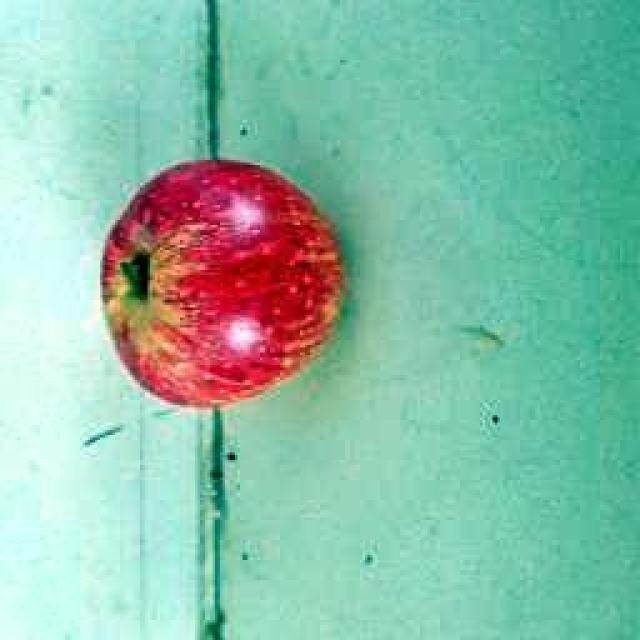Good_Apple: (98, 160, 345, 412)
